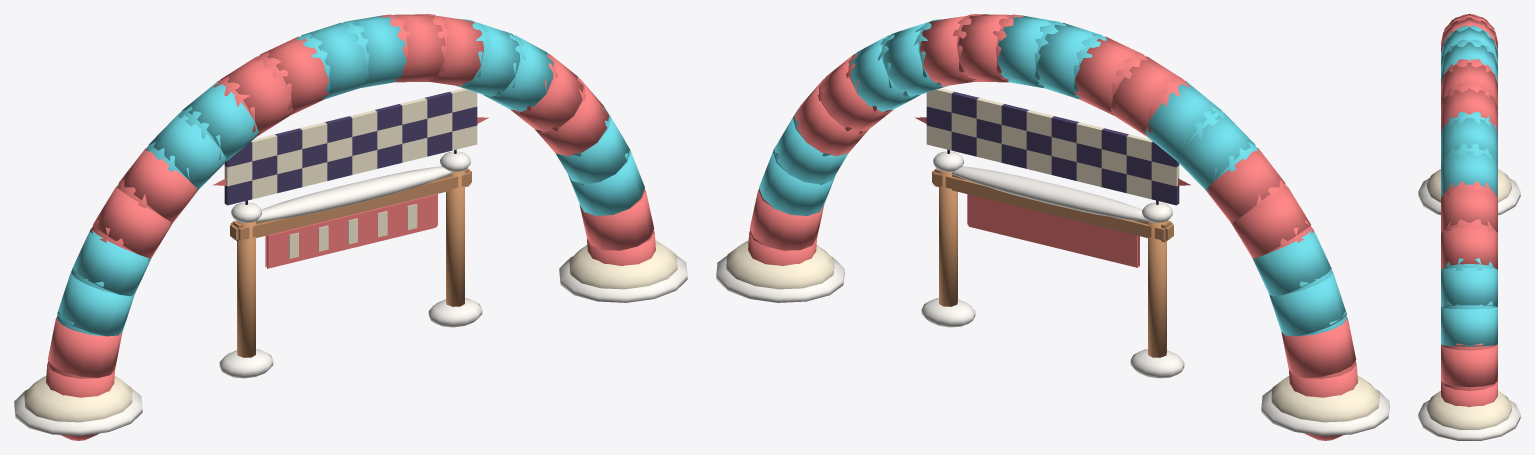
Rendered from decor.glb.
3 renders of one model, left to right at view 1: azimuth 30°, elevation 25°; view 2: azimuth 150°, elevation 25°; view 3: azimuth 270°, elevation 25°, orthographic. The views are drawn at different scales.
Visible parts, largest first — view 1: arch, gate; view 2: arch, gate; view 3: arch.
Part boxes in pixels (x1,y1,x2,y2): arch: (14,14,687,440); gate: (213,117,488,378); arch: (716,14,1389,440); gate: (915,117,1190,378); arch: (1418,14,1520,440).
Size of the model in its own units: 28.94 by 14.6 by 4.68.
